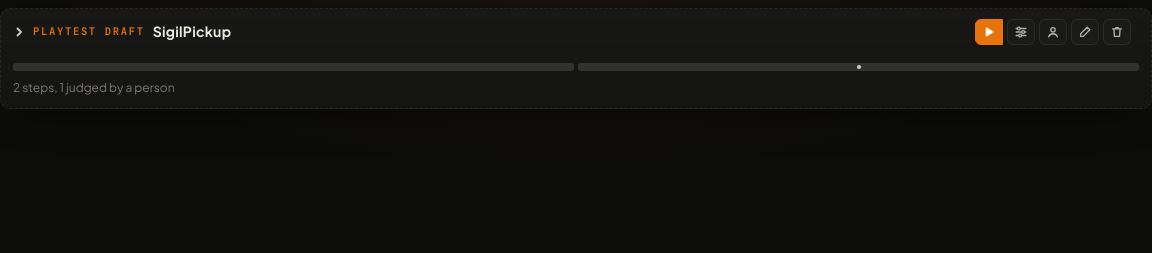
Test case: a manual step's verdict before Start playtest › is sent from the draft, and the card stays in place as the manual run, with Start playtest still there
Step 1. Click the button "Playtest draft SigilPickup" → {"x": 122, "y": 32}, box 13,21 -> 231,43
(page scrolled)
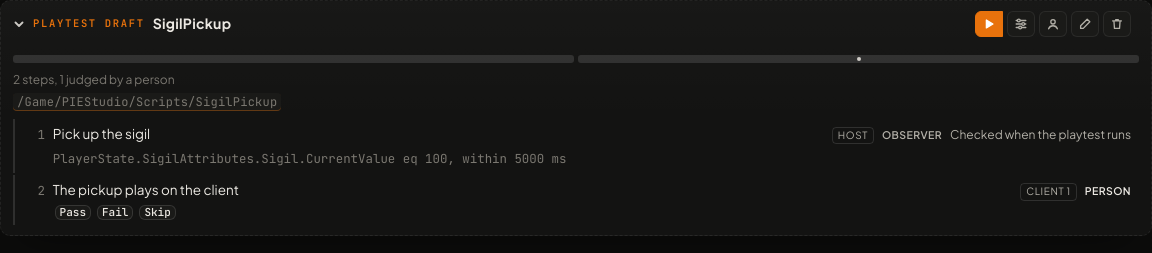
Step 2. Click the button with aria-label "Pass step 2" → {"x": 73, "y": 212}, box 55,205 -> 91,220
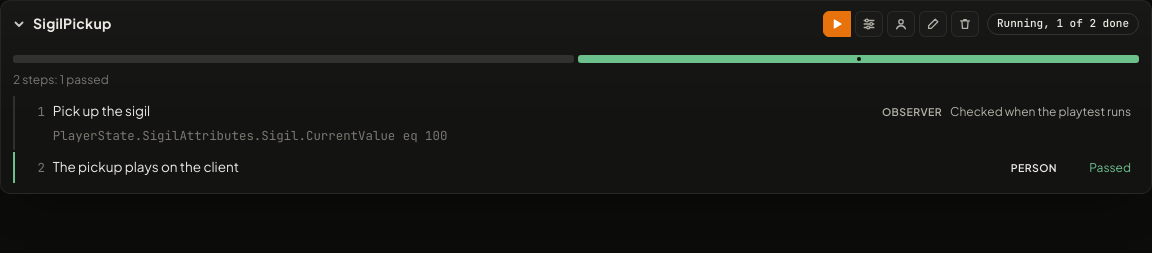
Check: the button named "Start playtest" is shown, box 823,11 -> 851,37
Check: the text "Checked when the playtest runs" is shown, box 950,103 -> 1131,121
Check: the text "Passed" is shown, box 1089,160 -> 1131,175
